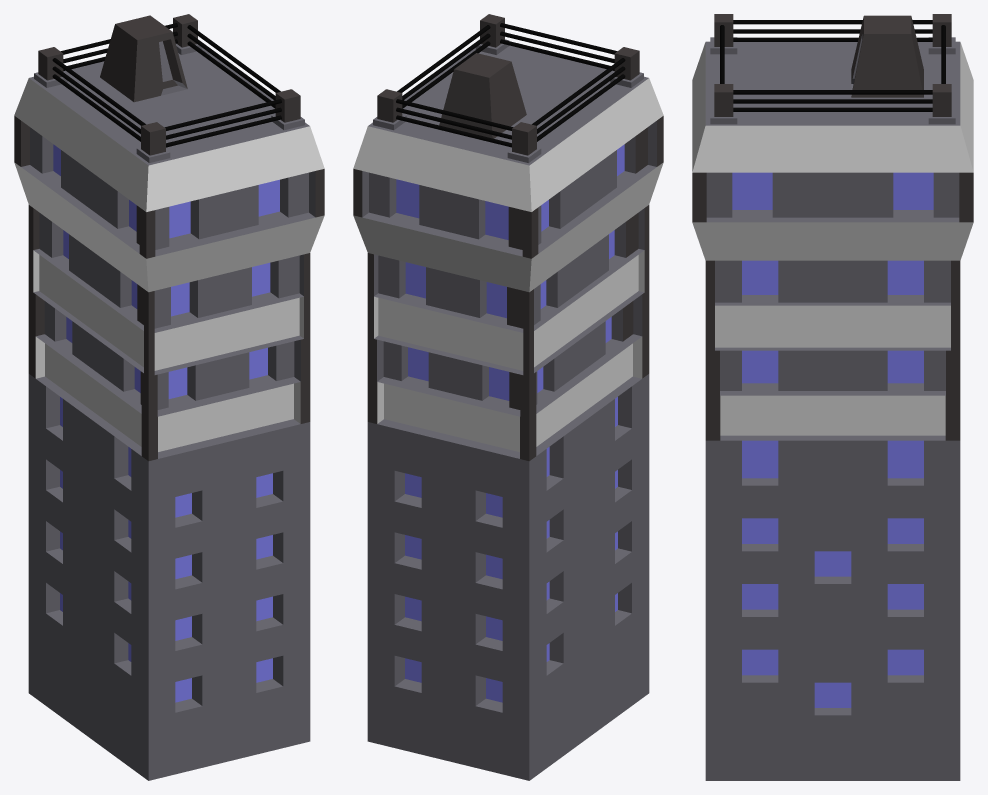
File: aprt.fbx
The picture shows the model from 3 angles, left to right: view 1: azimuth 30°, elevation 25°; view 2: azimuth 150°, elevation 25°; view 3: azimuth 270°, elevation 25°; orthographic projection. The views are drawn at different scales.
Parts seen in each view (by area): view 1: Cube; view 2: Cube; view 3: Cube.
Part boxes in pixels (<box>): Cube: <box>14,14,324,780</box>; Cube: <box>353,14,663,780</box>; Cube: <box>692,14,973,780</box>.
Size of the model in its own units: 637 by 2290 by 818.
